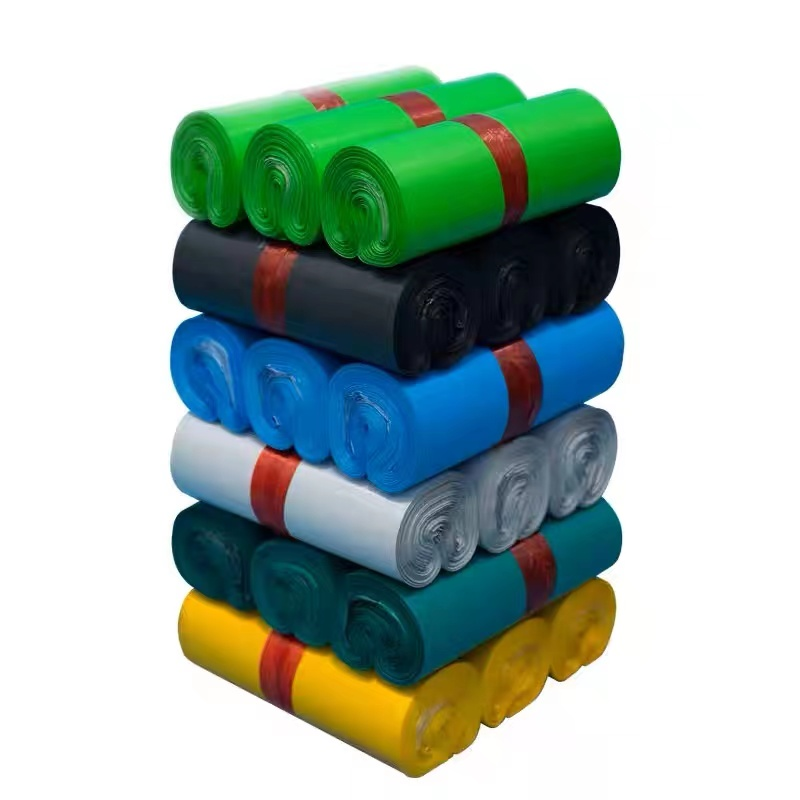Parcel: (170, 69, 623, 776)
